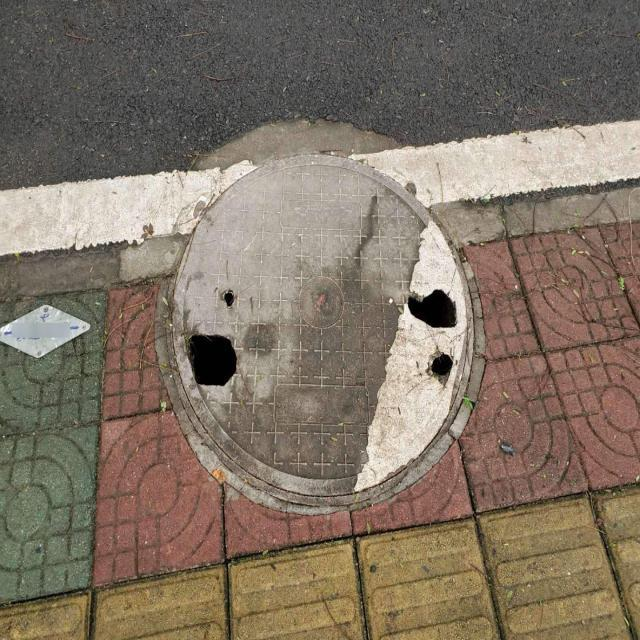Faulty: (156, 153, 484, 515)
